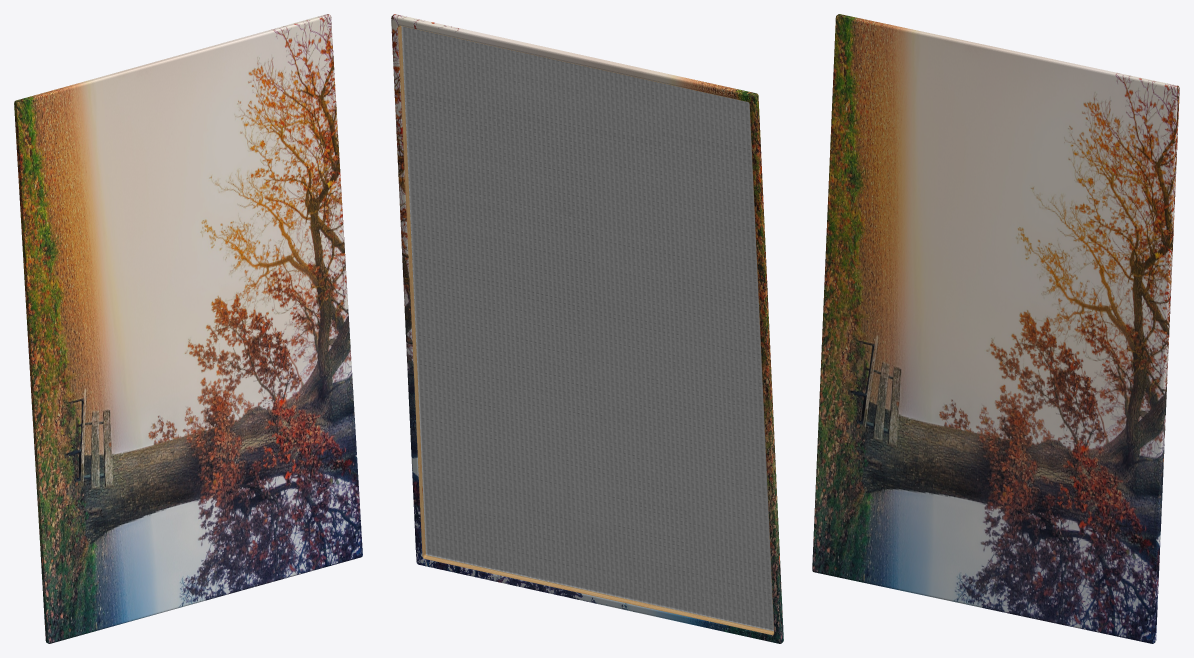
File: canvas_portret.glb
The picture shows the model from 3 angles, left to right: view 1: azimuth 30°, elevation 25°; view 2: azimuth 150°, elevation 25°; view 3: azimuth 330°, elevation 25°; orthographic projection. The views are drawn at different scales.
Parts seen in each view (by area): view 1: node_id11; view 2: node_id19, node_id11; view 3: node_id11.
Boxes of the visible parts, x1,y1,x2,y2 form: node_id11: [14, 14, 362, 643]; node_id19: [398, 25, 774, 635]; node_id11: [391, 14, 783, 643]; node_id11: [812, 14, 1179, 643].
Size of the model in its own units: 0.3358 by 0.5118 by 0.0708.
Materials: 2 (2 with a texture image).
